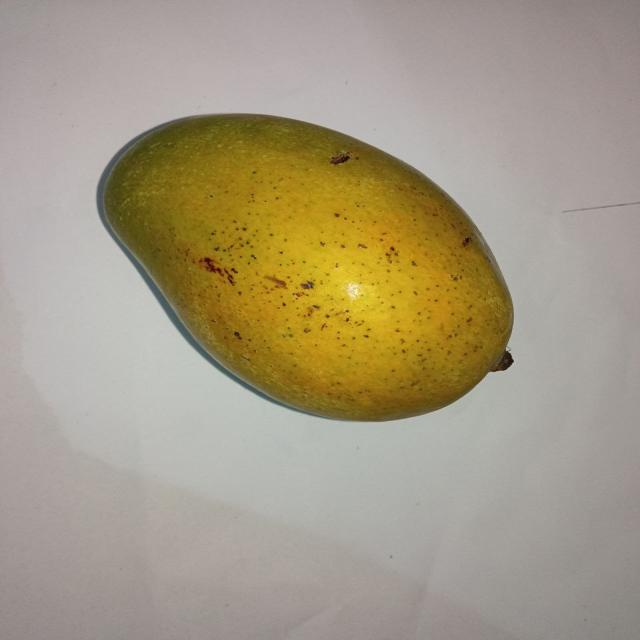fresh_mango: (100, 110, 513, 420)
